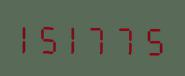five: (143, 20, 167, 57), (42, 19, 66, 55)
one: (17, 18, 41, 55), (68, 19, 92, 55)
seven: (93, 20, 117, 56), (118, 20, 142, 56)
